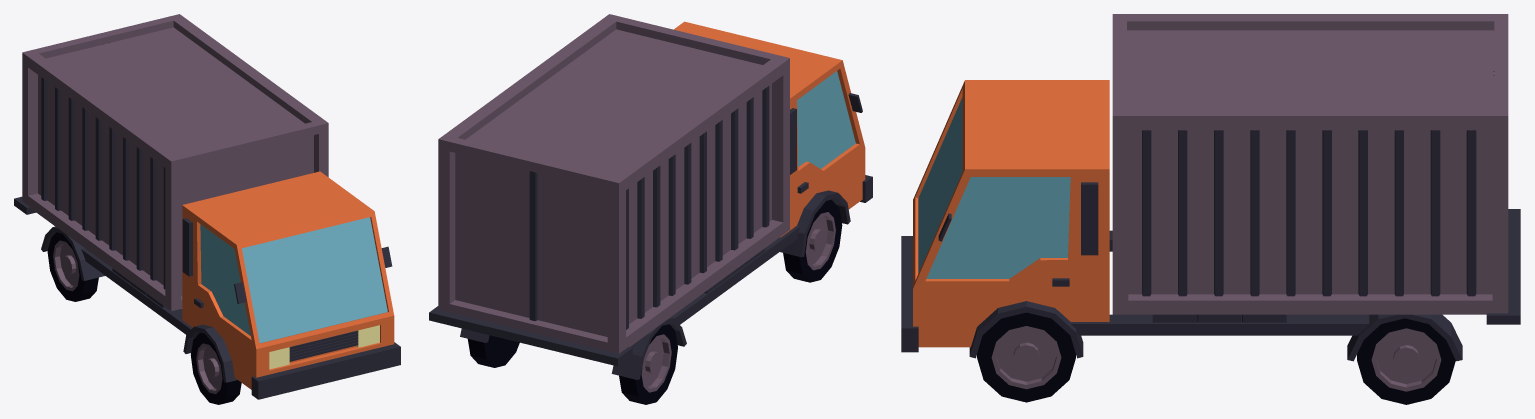
Rendered from truck.glb.
The picture shows the model from 3 angles, left to right: view 1: azimuth 30°, elevation 25°; view 2: azimuth 150°, elevation 25°; view 3: azimuth 270°, elevation 25°; orthographic projection. The views are drawn at different scales.
Parts seen in each view (by area): view 1: truck; view 2: truck; view 3: truck.
Part boxes in pixels (left/top/right/bottom): truck: left=14, top=14, right=400, bottom=404; truck: left=429, top=14, right=872, bottom=404; truck: left=901, top=14, right=1520, bottom=404.
Bounding box in the file's own units: 1.26 × 1.62 × 3.1.
Materials: 1 (1 with a texture image).
